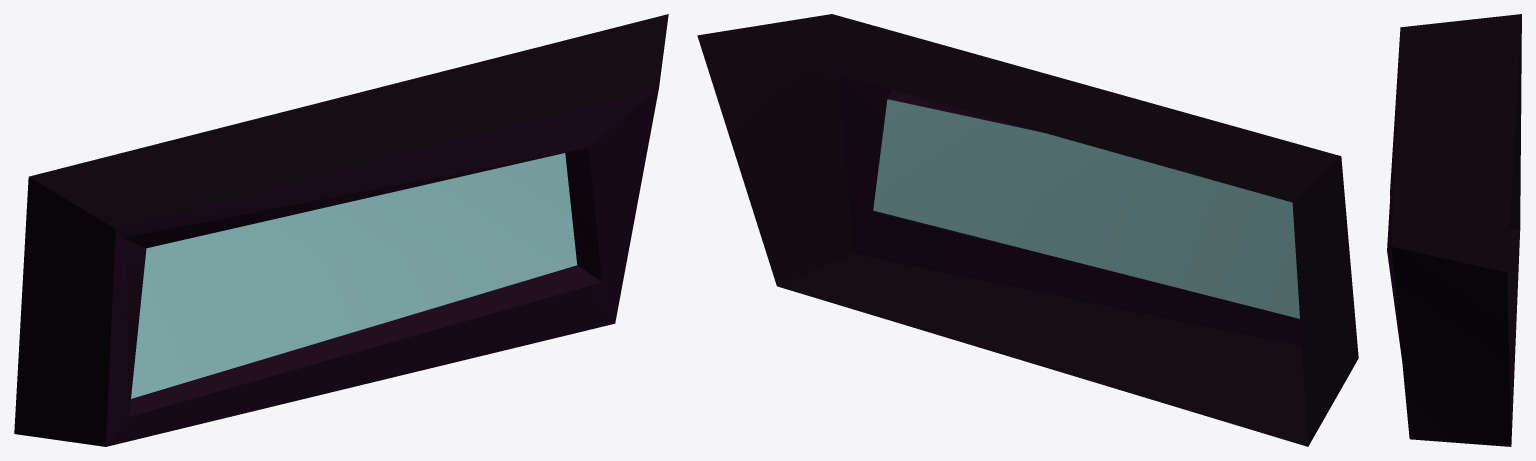
The model's file is c_house_window_rectangle_ac.fbx.
The picture shows the model from 3 angles, left to right: view 1: azimuth 30°, elevation 25°; view 2: azimuth 150°, elevation 25°; view 3: azimuth 270°, elevation 25°; orthographic projection. The views are drawn at different scales.
Visible parts, largest first — view 1: c_house_window_rectangle_ac; view 2: c_house_window_rectangle_ac; view 3: c_house_window_rectangle_ac.
Boxes of the visible parts, x1=… form: c_house_window_rectangle_ac: x1=14, y1=14, x2=668, y2=446; c_house_window_rectangle_ac: x1=697, y1=14, x2=1358, y2=446; c_house_window_rectangle_ac: x1=1387, y1=14, x2=1521, y2=446.
Bounding box in the file's own units: 3.25 × 1.29 × 0.6677.
